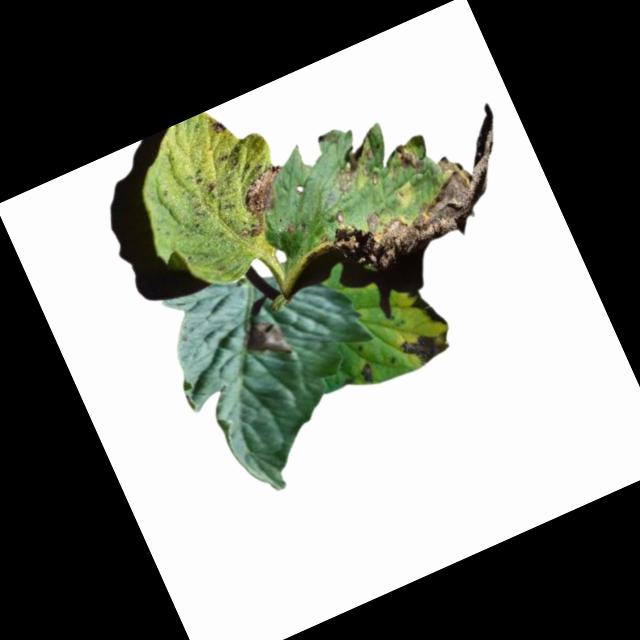Early_blight: (284, 102, 534, 294), (227, 162, 300, 239), (239, 313, 291, 367), (399, 323, 454, 371), (408, 288, 449, 337), (208, 116, 230, 137), (358, 362, 377, 385)
